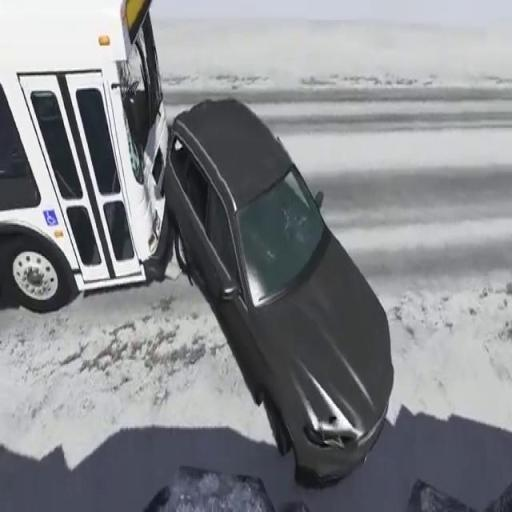小汽车撞小汽车: (1, 4, 397, 490)
